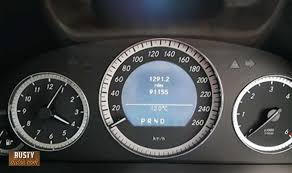Digital_Meter: (138, 71, 181, 99)
